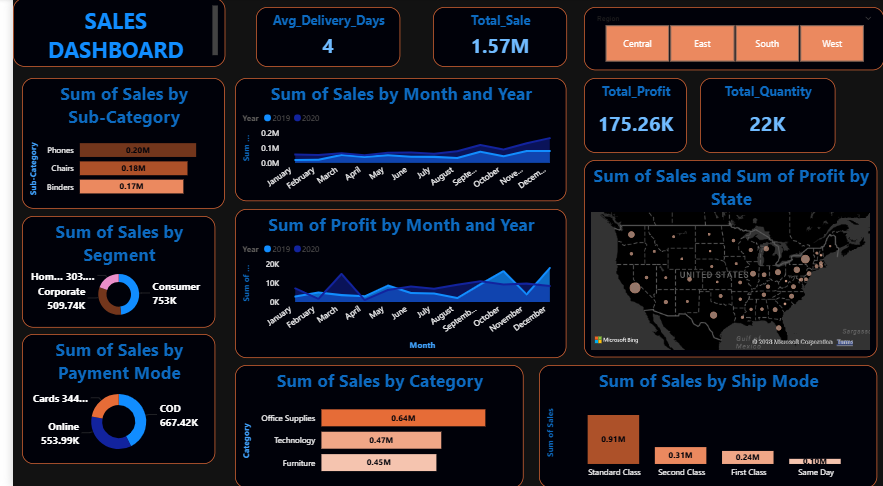

The dashboard page shown, as its layout file describes it:
{"tool":"powerbi","page":{"name":"Page 1","canvas":[1280,720],"ordinal":0},"visuals":[{"type":"clusteredBarChart","fields":{"Category":["Sheet1.Category"],"Y":["Sum(Sheet1.Sales)"]},"box":[325.7,538.6,424.3,181.4],"z":0},{"type":"clusteredBarChart","fields":{"Category":["Sheet1.Sub-Category"],"Y":["Sum(Sheet1.Sales)"]},"box":[13.2,117.6,298.3,192.5],"z":1000},{"type":"clusteredColumnChart","fields":{"Y":["Sum(Sheet1.Sales)"],"Category":["Sheet1.Ship Mode"]},"box":[772.9,538.6,497.1,181.4],"z":2000},{"type":"areaChart","fields":{"Y":["Sum(Sheet1.Sales)"],"Category":["Sheet1.Order Date.Variation.Date Hierarchy.Month"],"Series":["Sheet1.Order Date.Variation.Date Hierarchy.Year"]},"box":[325.7,117.1,487.1,181.4],"z":3000},{"type":"areaChart","fields":{"Category":["Sheet1.Order Date.Variation.Date Hierarchy.Month"],"Series":["Sheet1.Order Date.Variation.Date Hierarchy.Year"],"Y":["Sum(Sheet1.Profit)"]},"box":[325.7,310,487.1,218.6],"z":4000},{"type":"map","fields":{"Category":["Sheet1.State"],"Size":["Sum(Sheet1.Sales)"]},"box":[838.6,238.6,431.4,290],"z":5000},{"type":"donutChart","fields":{"Category":["Sheet1.Segment"],"Y":["Sum(Sheet1.Sales)"]},"box":[12.9,320,284.3,164.3],"z":6000},{"type":"donutChart","fields":{"Category":["Sheet1.Payment Mode"],"Y":["Sum(Sheet1.Sales)"]},"box":[12.9,494.3,284.3,191.4],"z":7000},{"type":"slicer","fields":{"Values":["Sheet1.Region"]},"box":[838.6,12.9,441.4,92.9],"z":8000},{"type":"card","title":"Total_Sale","fields":{"Values":["Sum(Sheet1.Sales)"]},"box":[617.1,13.2,196.9,88.2],"z":9000},{"type":"card","title":"Avg_Delivery_Days","fields":{"Values":["Avg(Sheet1.Avg_delivery_days)"]},"box":[357.1,13.2,211.6,88.2],"z":10000},{"type":"textbox","box":[0,0,311.5,101.4],"z":11000},{"type":"card","title":"Total_Profit","fields":{"Values":["Sum(Sheet1.Profit)"]},"box":[838.6,117.1,151.4,110],"z":12000},{"type":"card","title":"Total_Quantity","fields":{"Values":["Sum(Sheet1.Quantity)"]},"box":[1010,117.1,198.6,110],"z":13000}]}

Visuals, with their boxes in screenshot pixels (x1, y1, x2, y2), scaled from the page's 1280x720 canvas onto the 883x486 screenshot:
clusteredBarChart - Sheet1.Category x Sum(Sheet1.Sales): [left=225, top=364, right=517, bottom=485]
clusteredBarChart - Sheet1.Sub-Category x Sum(Sheet1.Sales): [left=9, top=79, right=215, bottom=209]
clusteredColumnChart - Sum(Sheet1.Sales) x Sheet1.Ship Mode: [left=533, top=364, right=876, bottom=485]
areaChart - Sum(Sheet1.Sales) x Sheet1.Order Date.Variation.Date Hierarchy.Month: [left=225, top=79, right=561, bottom=201]
areaChart - Sheet1.Order Date.Variation.Date Hierarchy.Month x Sheet1.Order Date.Variation.Date Hierarchy.Year: [left=225, top=209, right=561, bottom=357]
map - Sheet1.State x Sum(Sheet1.Sales): [left=579, top=161, right=876, bottom=357]
donutChart - Sheet1.Segment x Sum(Sheet1.Sales): [left=9, top=216, right=205, bottom=327]
donutChart - Sheet1.Payment Mode x Sum(Sheet1.Sales): [left=9, top=334, right=205, bottom=463]
slicer - Sheet1.Region: [left=579, top=9, right=882, bottom=71]
"Total_Sale" card: [left=426, top=9, right=562, bottom=68]
"Avg_Delivery_Days" card: [left=246, top=9, right=392, bottom=68]
textbox: [left=0, top=0, right=215, bottom=68]
"Total_Profit" card: [left=579, top=79, right=683, bottom=153]
"Total_Quantity" card: [left=697, top=79, right=834, bottom=153]
